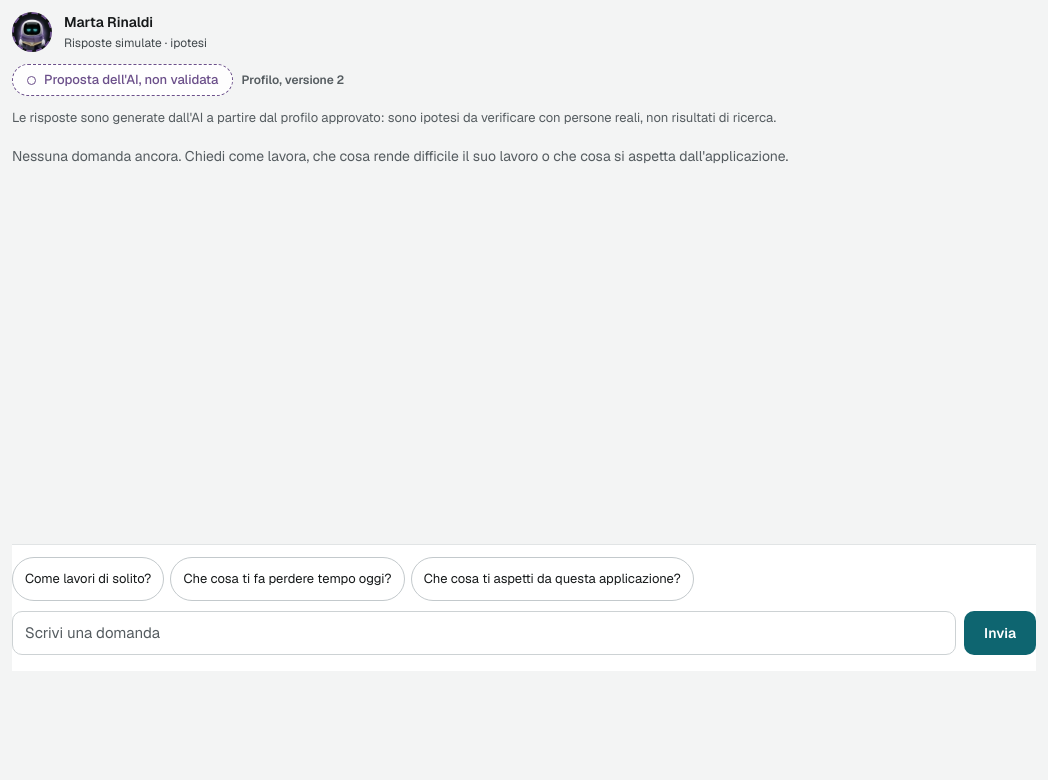
twin chat panel › explains a known refusal in plain words without the code
Type "Come lavori?" into the text box with test id "twin-chat-question" at (484, 633), box [12,610,956,655]
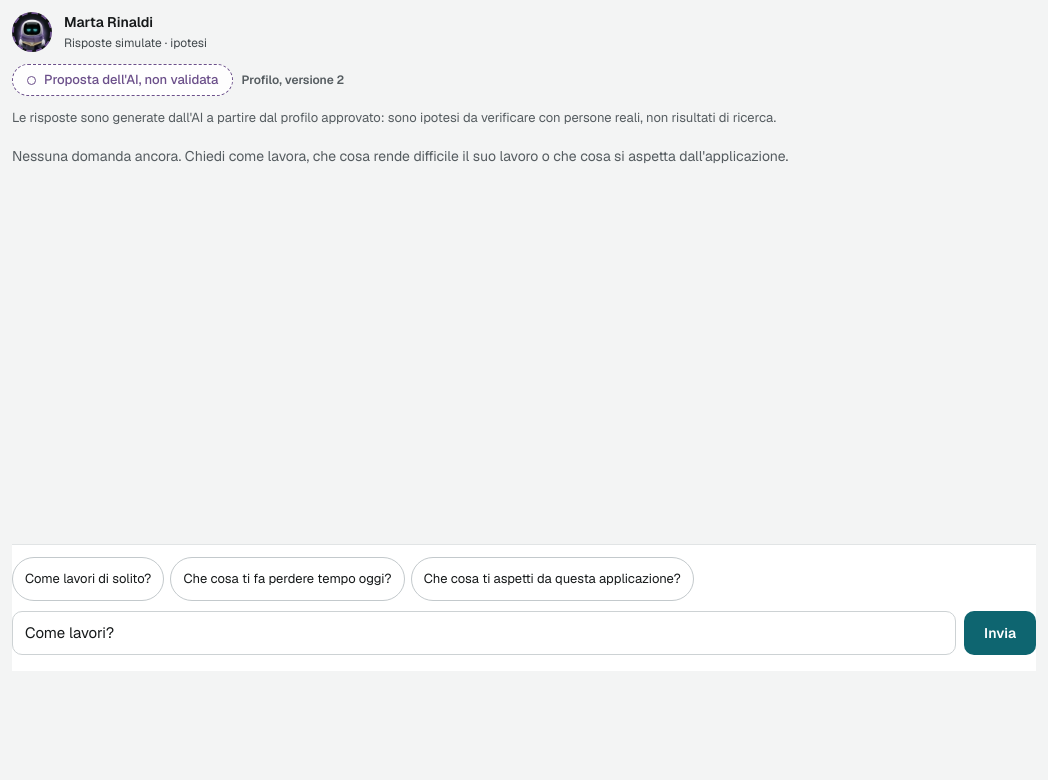
Submit the form
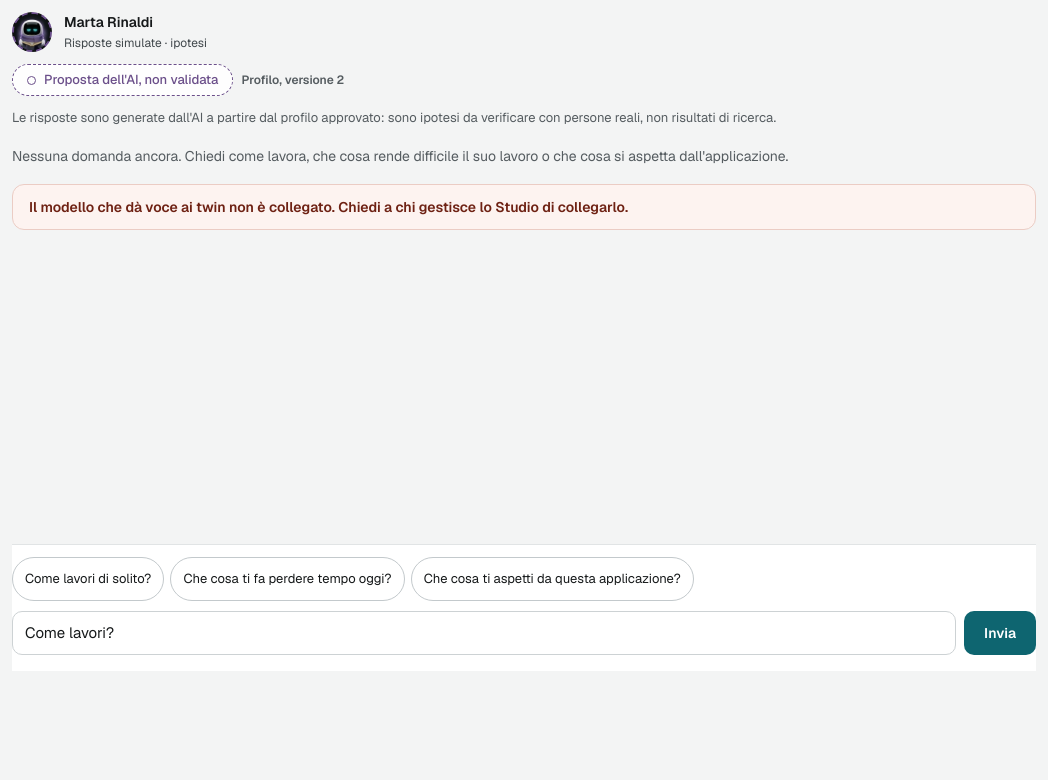
expect the message with test id "twin-chat-error" shows "Il modello che dà voce ai twin non è collegato. Chiedi a chi gestisce lo Studio di collegarlo.": met, box [29,198,628,216]
